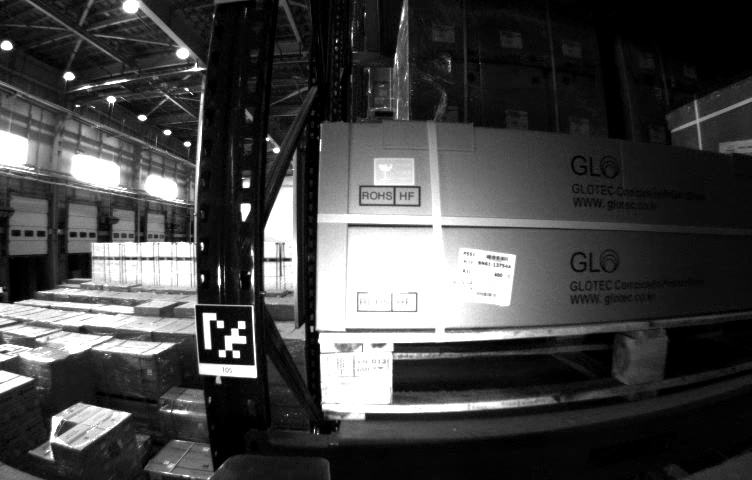True Barcode: (456, 245, 516, 307)
